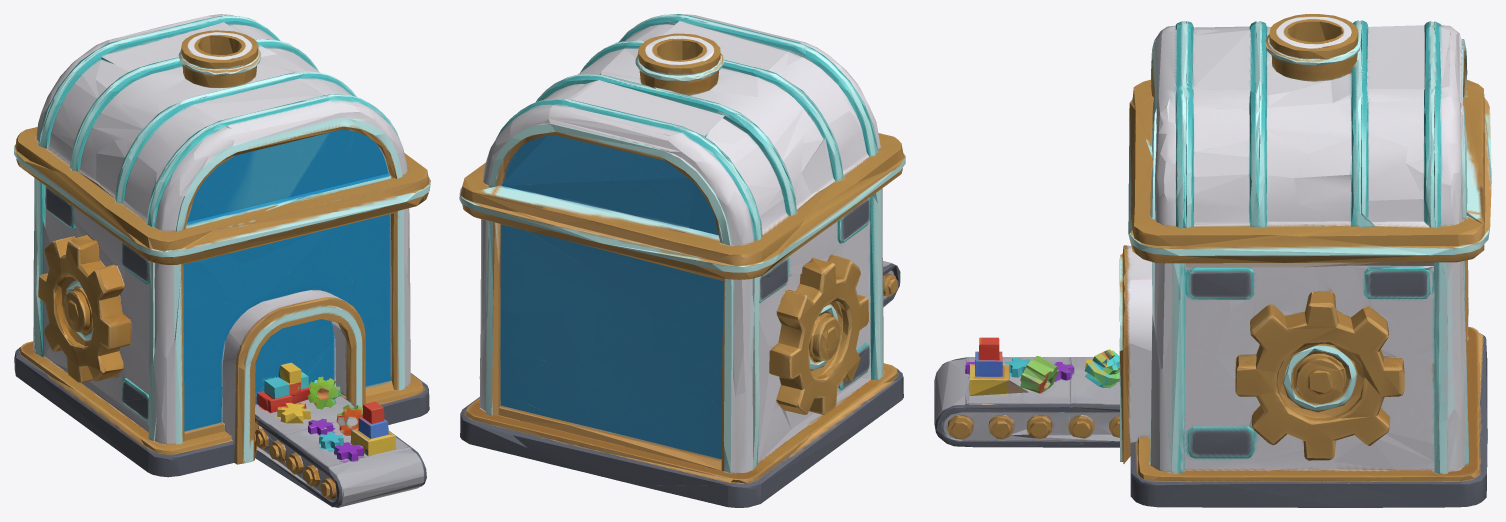
Rendered from factory.glb.
The picture shows the model from 3 angles, left to right: view 1: azimuth 30°, elevation 25°; view 2: azimuth 150°, elevation 25°; view 3: azimuth 270°, elevation 25°; orthographic projection. The views are drawn at different scales.
Visible parts, largest first — view 1: Mesh_0; view 2: Mesh_0; view 3: Mesh_0.
Part boxes in pixels (x1,y1,x2,y2): Mesh_0: [14, 14, 430, 507]; Mesh_0: [459, 14, 905, 507]; Mesh_0: [934, 14, 1491, 507].
Size of the model in its own units: 1.32 by 1.49 by 1.9.
Materials: 1 (1 with a texture image).
